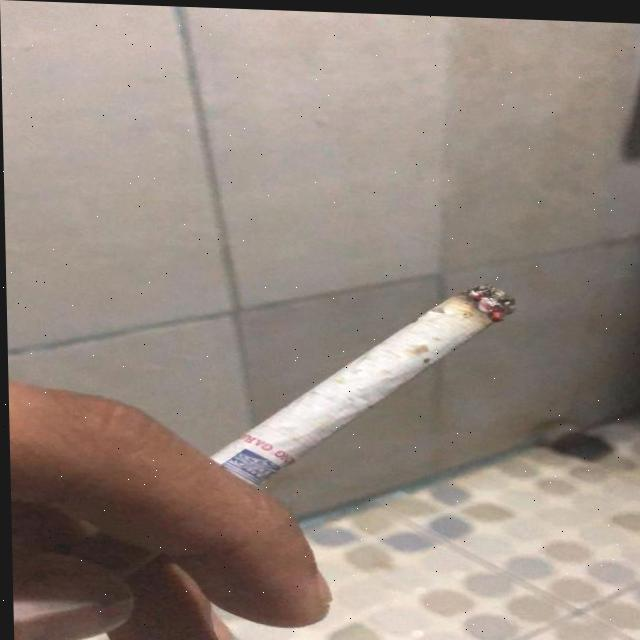cigarette: (201, 269, 518, 490)
